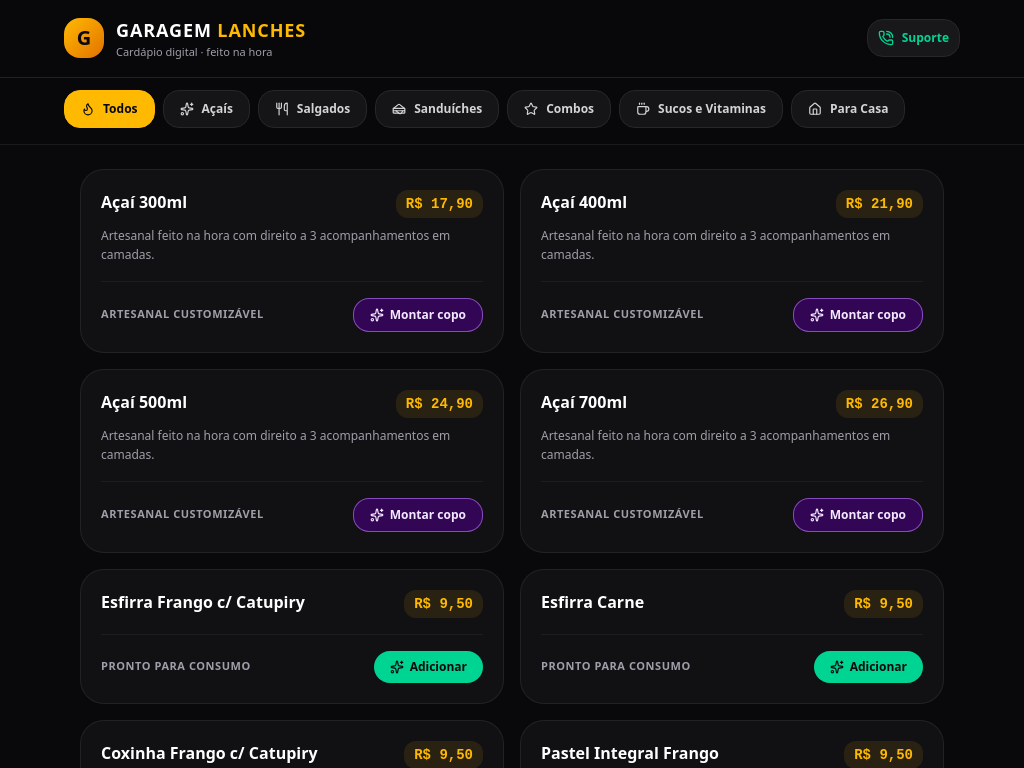
Scenario: CardapioPage › monta o açaí mostrando o custo dos adicionais
Click the button with aria-label "Montar copo: Açaí 300ml".
click(418, 314)  # box x1=353 y1=298 x2=483 y2=332
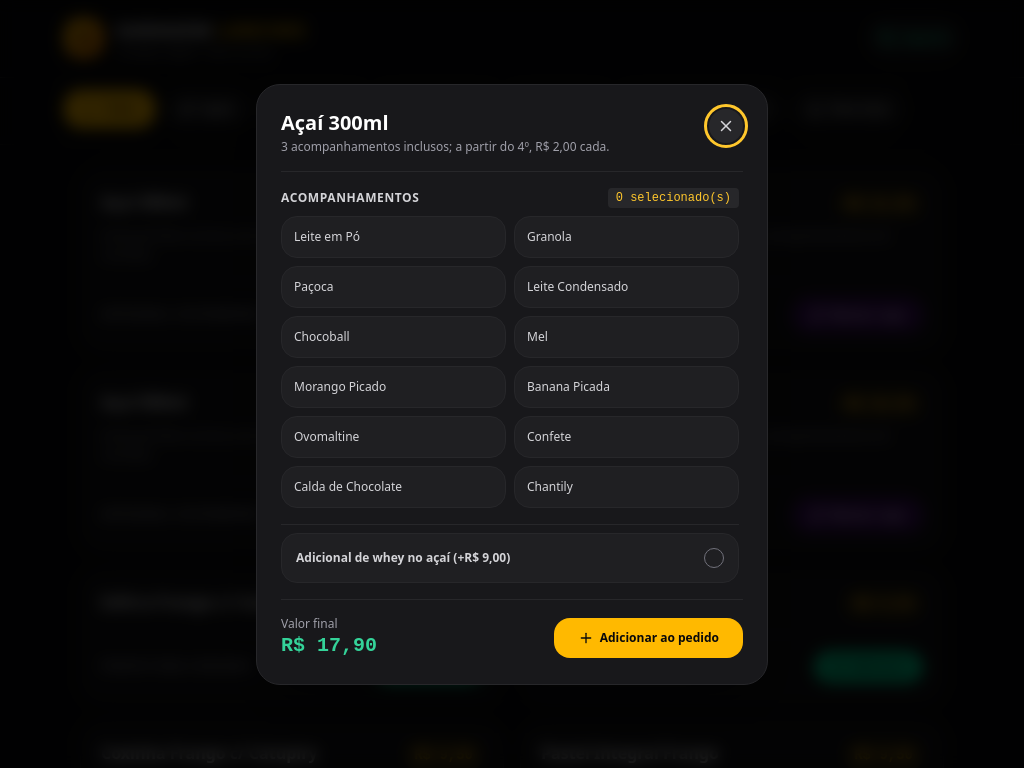
Click the button "Granola".
click(626, 236)  # box x1=514 y1=216 x2=739 y2=258
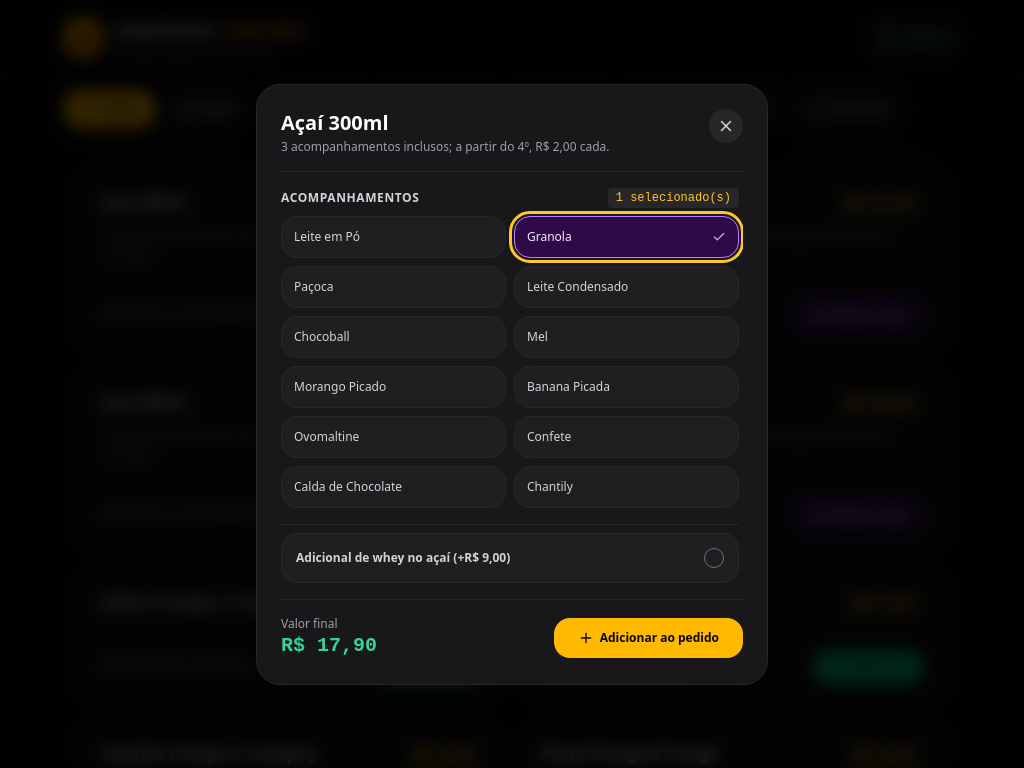
Click the button "Paçoca".
click(394, 286)  # box x1=281 y1=266 x2=506 y2=308
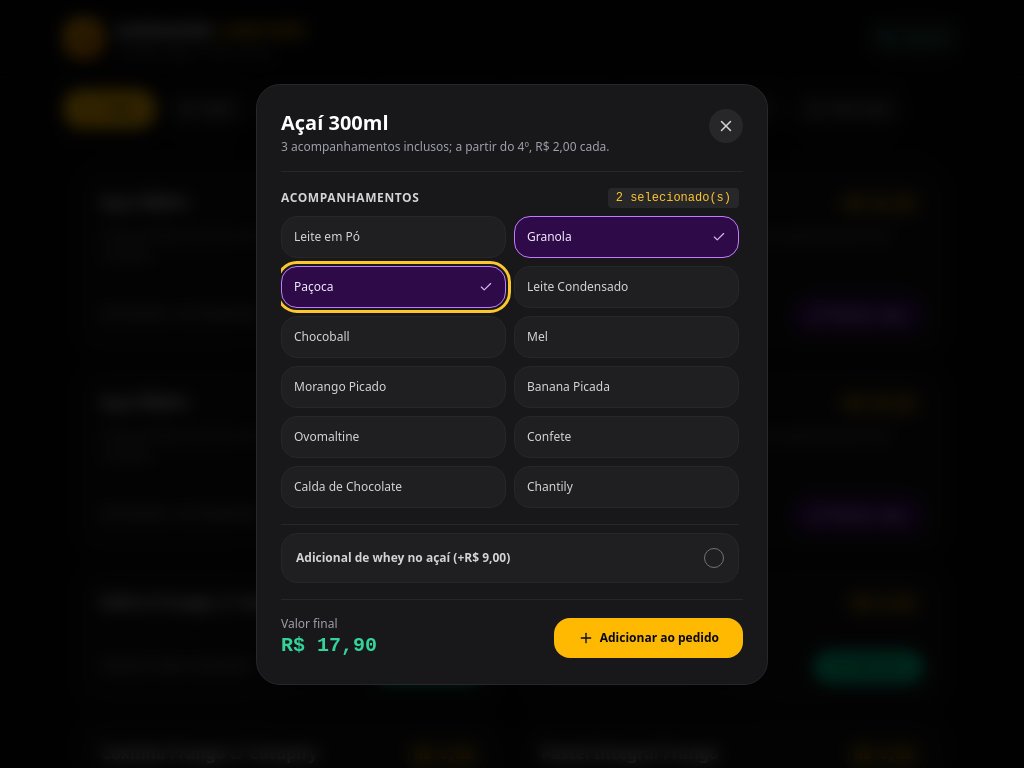
Click the button "Mel".
click(626, 336)  # box x1=514 y1=316 x2=739 y2=358
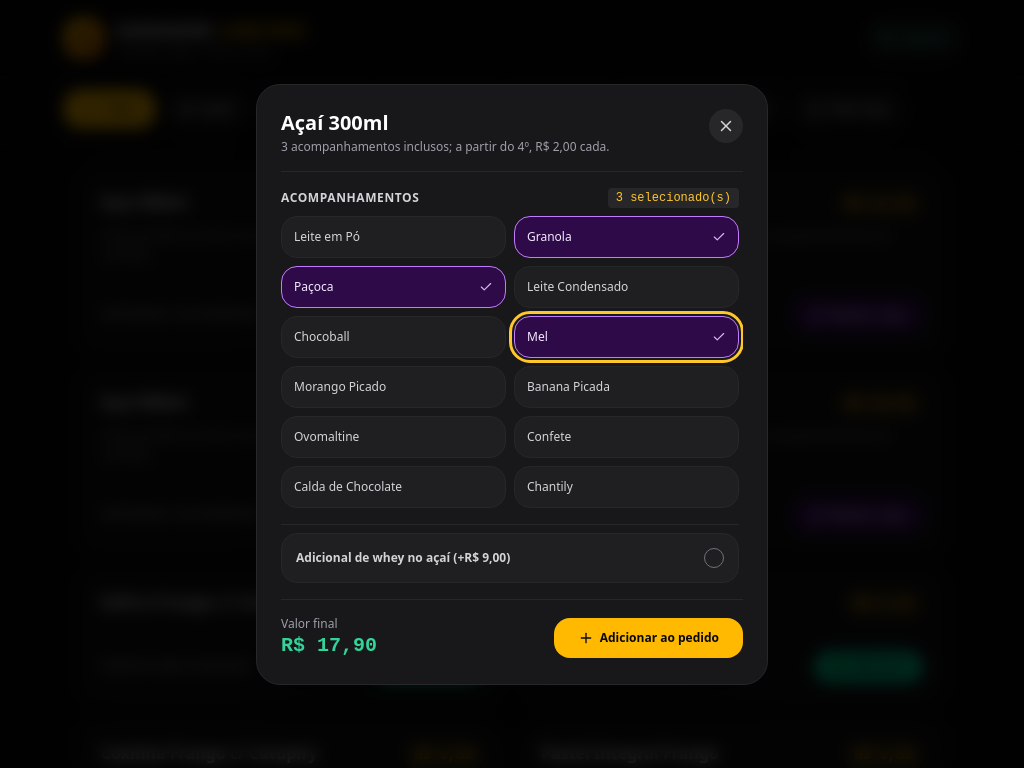
Click the button "Chantily".
click(626, 486)  # box x1=514 y1=466 x2=739 y2=508
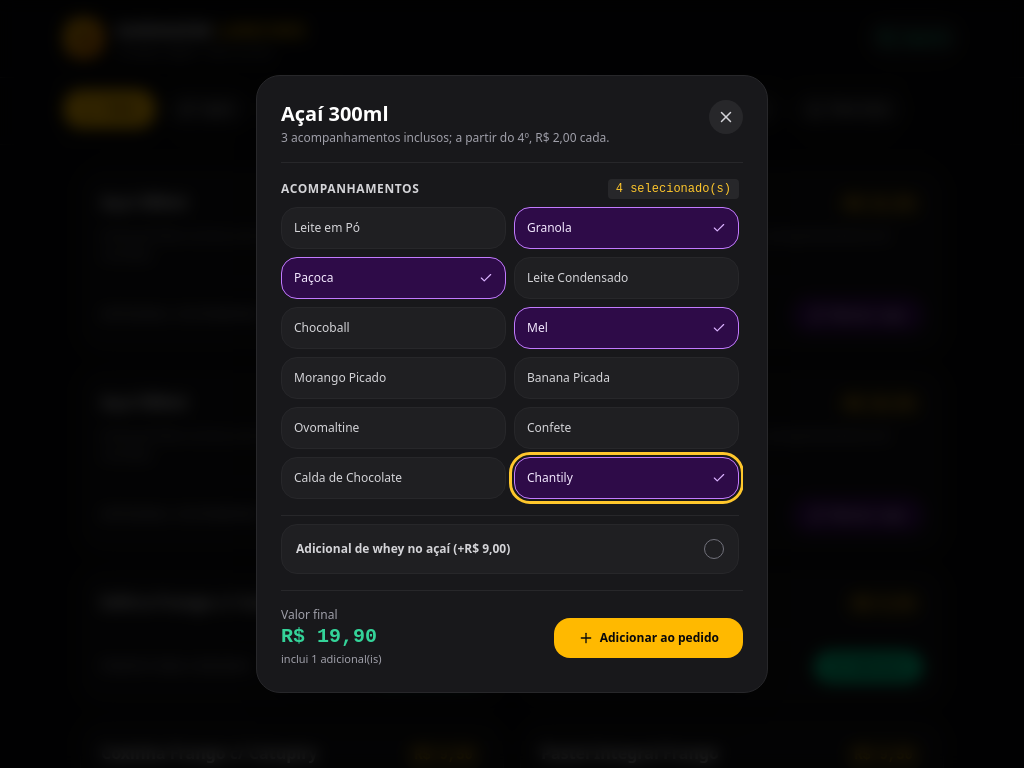
expect the text "R$ 19,90" is shown: met, box x1=281 y1=625 x2=377 y2=648
expect the text "inclui 1 adicional(is)" is shown: met, box x1=281 y1=651 x2=382 y2=668
Press Escape
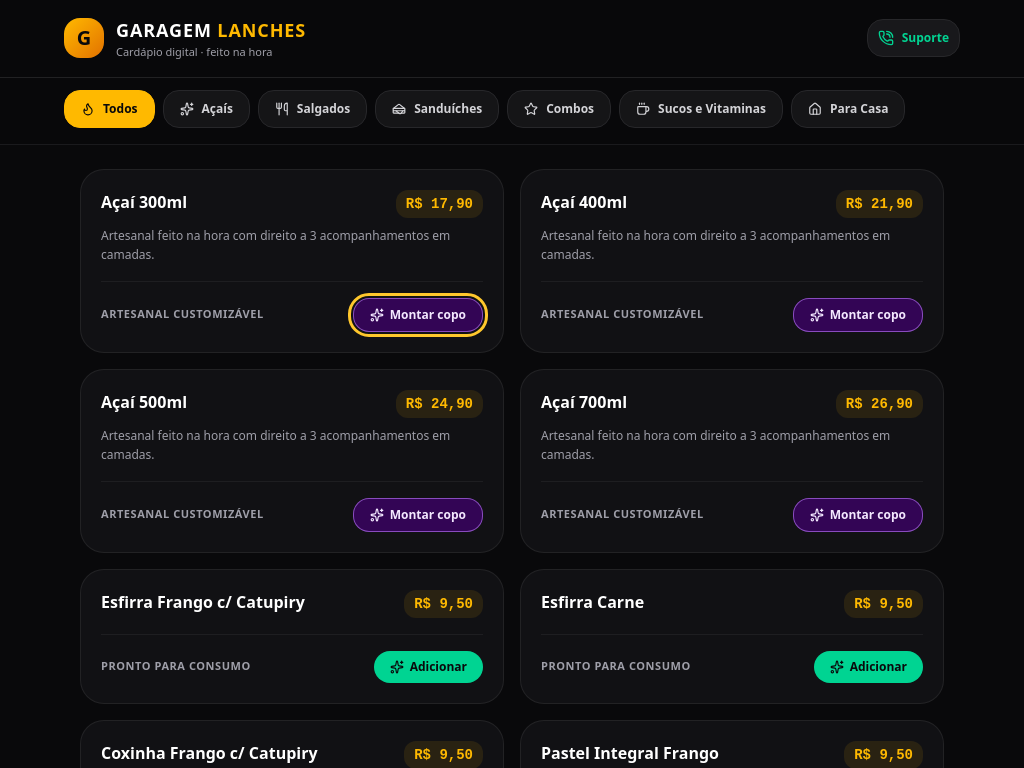
expect the dialog is gone: met
